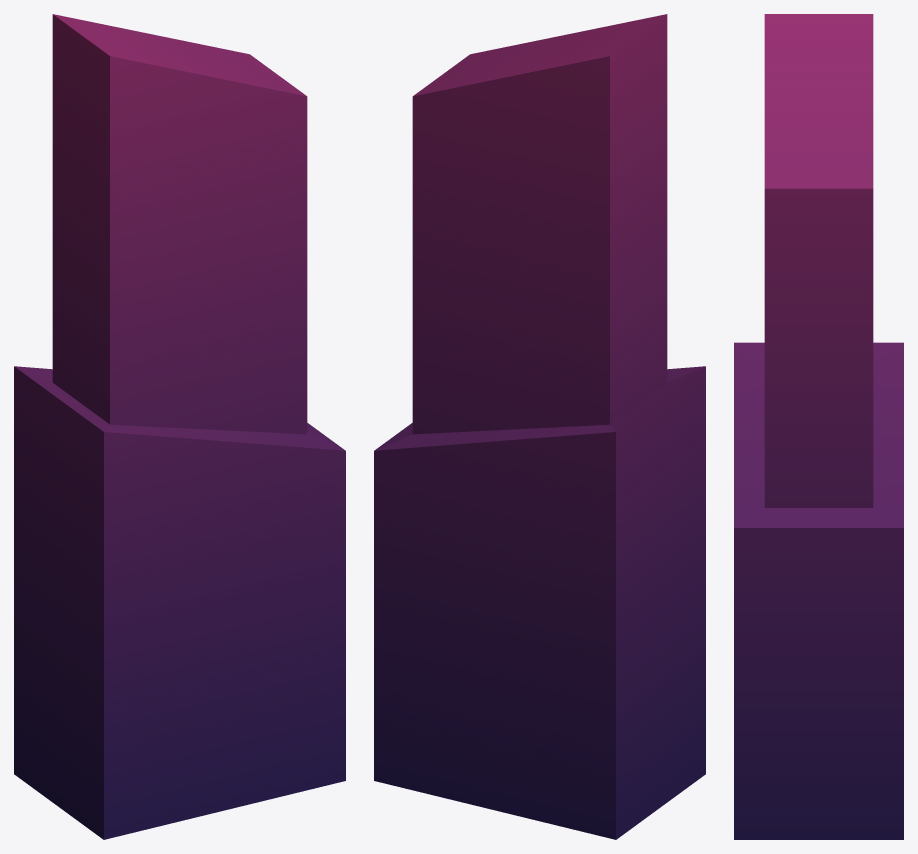
File: FBX_Building_003.fbx
3 renders of one model, left to right at view 1: azimuth 30°, elevation 25°; view 2: azimuth 150°, elevation 25°; view 3: azimuth 270°, elevation 25°, orthographic. The views are drawn at different scales.
Parts seen in each view (by area): view 1: Cube.003; view 2: Cube.003; view 3: Cube.003.
Part boxes in pixels (x1,y1,x2,y2): Cube.003: (14, 14, 345, 839); Cube.003: (374, 14, 705, 839); Cube.003: (734, 14, 903, 839).
Size of the model in its own units: 311 by 942 by 200.
1 material, 1 textured.
